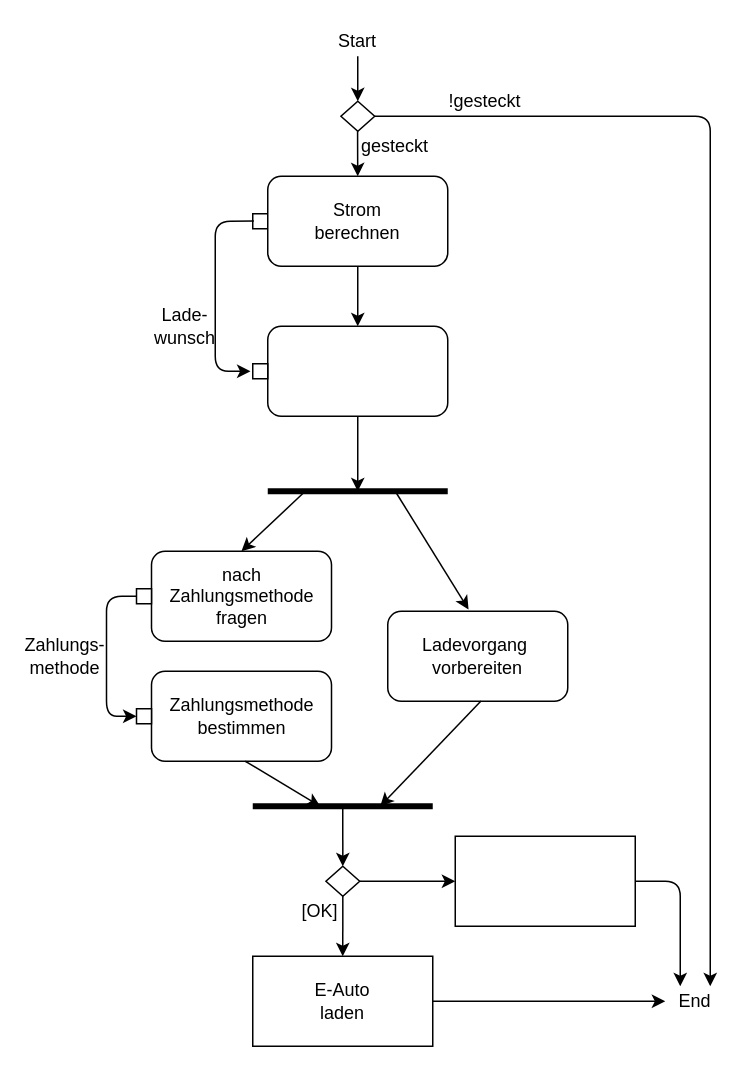
Some shapes in this 752 by 1073 pixel diagram are drawn without their labels. The centre of each missing label's shape, as x and y in pixels:
"Fehler melden" goes at (x=544, y=880).
"Ladewunsch prüfen" goes at (x=357, y=370).
